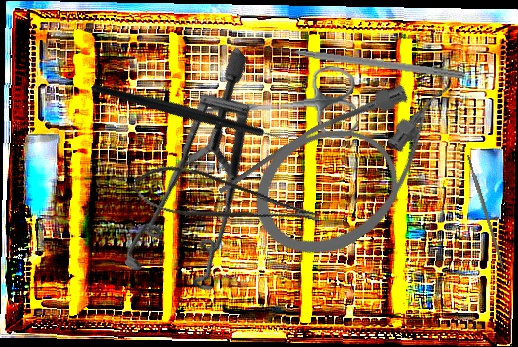Cannula: (231, 54, 490, 280)
Chopper: (89, 16, 304, 205), (266, 33, 467, 80)
Iris Scissors: (192, 64, 359, 150)
Micro Scissor: (127, 152, 323, 257)
Scalpel Handle: (466, 154, 506, 271)
Speculum: (63, 46, 346, 322)
Surgical Spoon: (218, 123, 321, 195)
